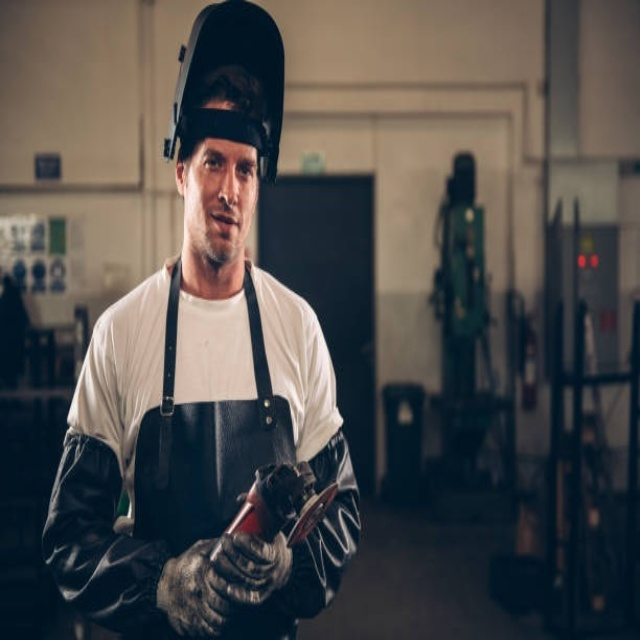Guantes: (159, 524, 294, 637)
Sin_gafas: (199, 144, 256, 190)
Sin_mascara: (204, 204, 244, 253)
